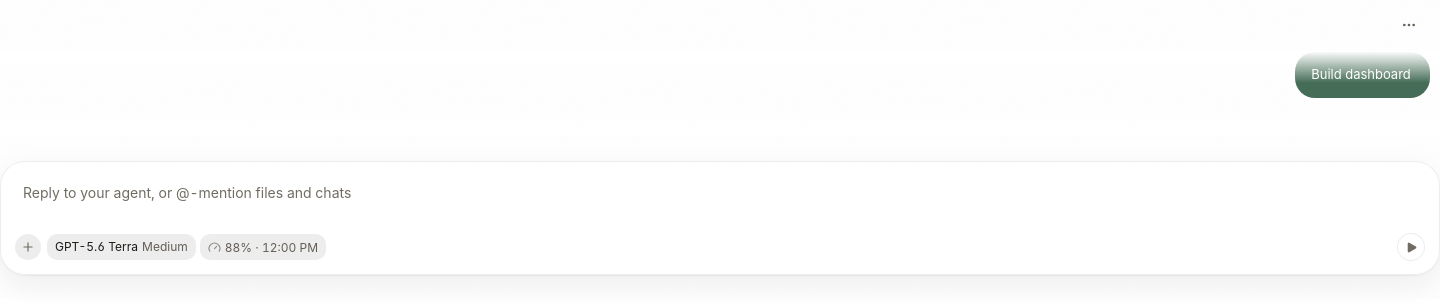
Test: SessionConversation workspace card › explains why enabling the card changes nothing on a side chat
Click the button named "Chat actions" at (1409, 25), box [1398, 14, 1420, 36]
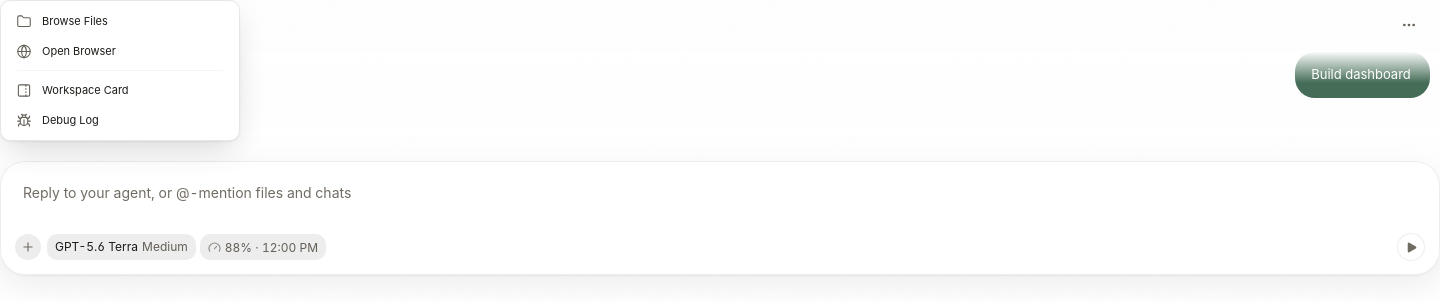
Click the menu item "Workspace Card" at (120, 90), box [7, 76, 233, 104]
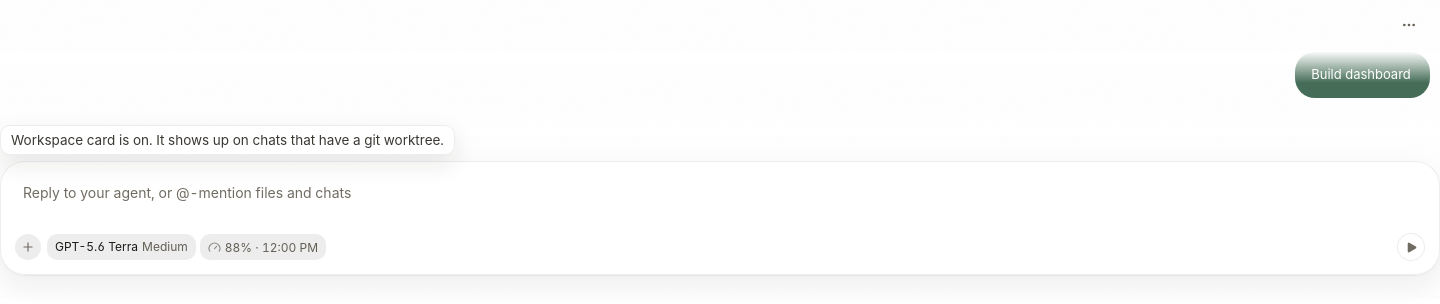
Now the message reads "Workspace card is on. It shows up on chats that have a git worktree.", box [11, 132, 444, 148]
